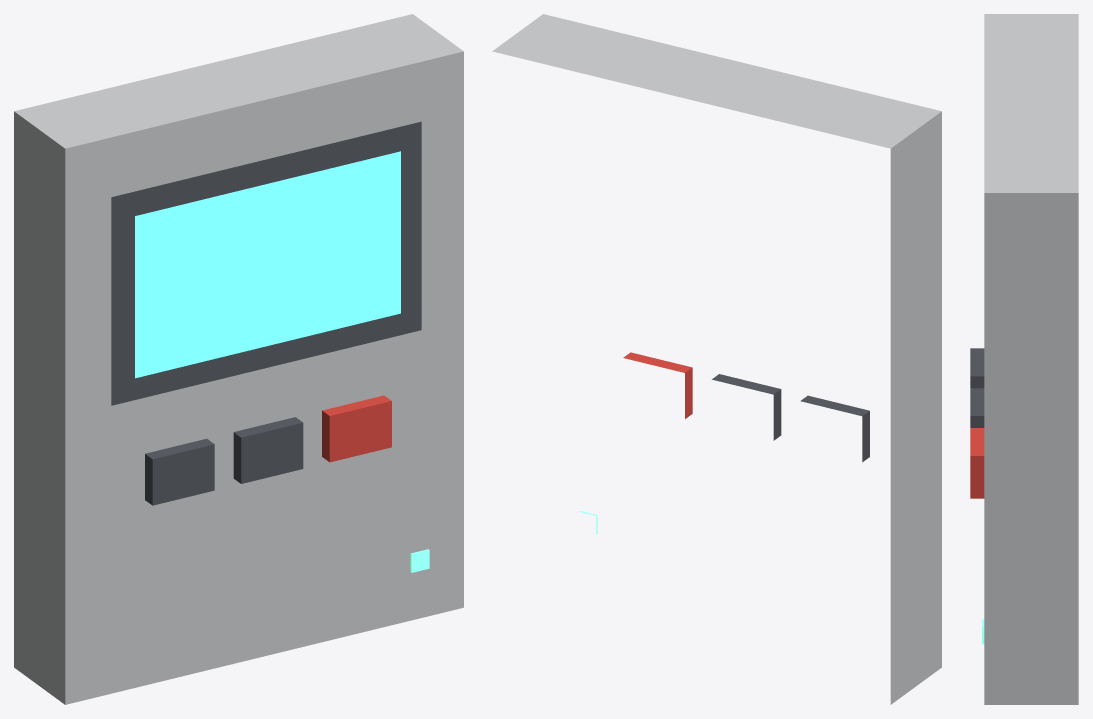
File: fac_panel_control.glb
The picture shows the model from 3 angles, left to right: view 1: azimuth 30°, elevation 25°; view 2: azimuth 150°, elevation 25°; view 3: azimuth 270°, elevation 25°; orthographic projection. The views are drawn at different scales.
Parts seen in each view (by area): view 1: Body; view 2: Body; view 3: Body.
Boxes of the visible parts, x1,y1,x2,y2 form: Body: (14,14,463,704); Body: (492,14,941,704); Body: (970,14,1078,704).
Size of the model in its own units: 0.18 by 0.24 by 0.046.
